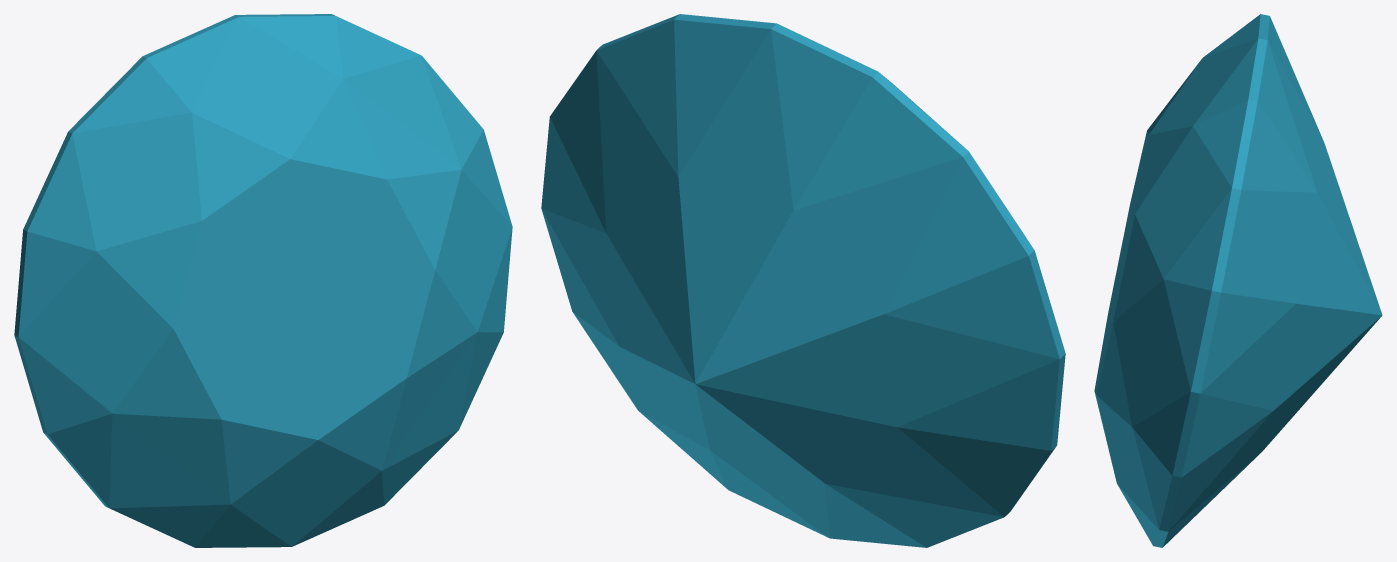
File: zircon.glb
3 renders of one model, left to right at view 1: azimuth 30°, elevation 25°; view 2: azimuth 150°, elevation 25°; view 3: azimuth 270°, elevation 25°, orthographic. The views are drawn at different scales.
Visible parts, largest first — view 1: zircon; view 2: zircon; view 3: zircon.
Part boxes in pixels (<box>): zircon: <box>14,14,512,547</box>; zircon: <box>541,14,1065,547</box>; zircon: <box>1094,14,1382,547</box>.
Size of the model in its own units: 2.3 by 2.27 by 1.22.
